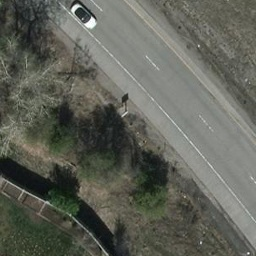car: (69, 3, 97, 29)
